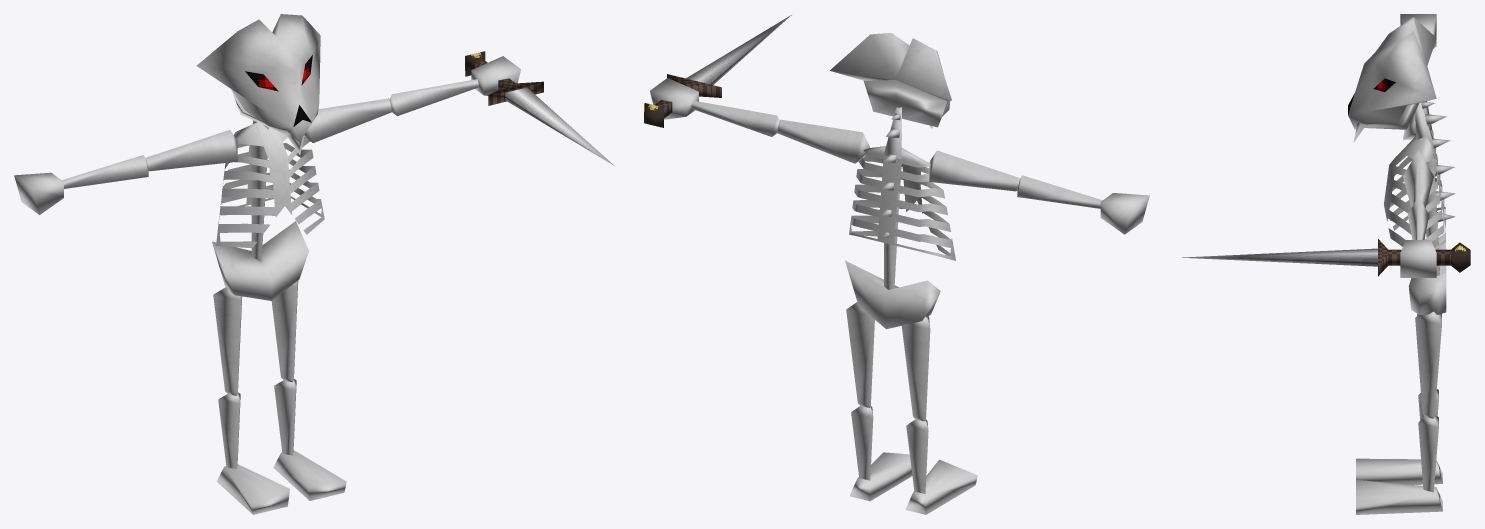
File: skel.fbx
3 views of the same model, side by side, from view 1: azimuth 30°, elevation 25°; view 2: azimuth 150°, elevation 25°; view 3: azimuth 270°, elevation 25° (orthographic).
Parts seen in each view (by area): view 1: Skel_body, Skel_head, Skel_Sword, Skel_foot1, Skel_leg1, Skel_arm2, Skel_foot2, Skel_arm3, Skel_leg2, Skel_hand1, Skel_arm4, Skel_arm1 (+3 smaller); view 2: Skel_body, Skel_head, Skel_jaw, Skel_Sword, Skel_arm3, Skel_arm2, Skel_leg1, Skel_leg2, Skel_foot1, Skel_foot2, Skel_hand1, Skel_arm4 (+4 smaller); view 3: Skel_head, Skel_body, Skel_Sword, Skel_foot2, Skel_leg2, Skel_foot1, Skel_hand2, Skel_leg4, Skel_arm3, Skel_arm4, Skel_jaw, Skel_hand1.
Boxes of the visible parts, x1=… form: Skel_body: x1=212, y1=120, x2=324, y2=300; Skel_head: x1=196, y1=14, x2=320, y2=142; Skel_Sword: x1=465, y1=51, x2=614, y2=165; Skel_foot1: x1=216, y1=464, x2=289, y2=514; Skel_leg1: x1=213, y1=287, x2=242, y2=395; Skel_arm2: x1=146, y1=130, x2=237, y2=171; Skel_foot2: x1=273, y1=450, x2=346, y2=500; Skel_arm3: x1=304, y1=98, x2=391, y2=142; Skel_leg2: x1=271, y1=280, x2=298, y2=382; Skel_hand1: x1=14, y1=172, x2=63, y2=214; Skel_arm4: x1=389, y1=79, x2=479, y2=115; Skel_arm1: x1=62, y1=155, x2=148, y2=188; Skel_body: x1=845, y1=107, x2=955, y2=329; Skel_head: x1=830, y1=33, x2=951, y2=116; Skel_jaw: x1=863, y1=80, x2=947, y2=128; Skel_Sword: x1=644, y1=15, x2=791, y2=127; Skel_arm3: x1=777, y1=119, x2=869, y2=163; Skel_arm2: x1=929, y1=150, x2=1019, y2=191; Skel_leg1: x1=901, y1=316, x2=930, y2=421; Skel_leg2: x1=846, y1=302, x2=874, y2=407; Skel_foot1: x1=905, y1=459, x2=977, y2=514; Skel_foot2: x1=849, y1=452, x2=912, y2=501; Skel_hand1: x1=1100, y1=193, x2=1149, y2=234; Skel_arm4: x1=691, y1=100, x2=779, y2=136; Skel_head: x1=1348, y1=17, x2=1436, y2=129; Skel_body: x1=1384, y1=101, x2=1455, y2=314; Skel_Sword: x1=1181, y1=239, x2=1470, y2=276; Skel_foot2: x1=1356, y1=480, x2=1442, y2=514; Skel_leg2: x1=1415, y1=311, x2=1441, y2=418; Skel_foot1: x1=1356, y1=458, x2=1442, y2=484; Skel_hand2: x1=1400, y1=240, x2=1436, y2=277; Skel_leg4: x1=1418, y1=415, x2=1438, y2=492; Skel_arm3: x1=1403, y1=150, x2=1433, y2=207; Skel_arm4: x1=1407, y1=197, x2=1429, y2=239; Skel_jaw: x1=1353, y1=102, x2=1419, y2=142; Skel_hand1: x1=1400, y1=14, x2=1436, y2=48.
Size of the model in its own units: 8.47 by 7.54 by 4.28.
4 materials, 4 textured.
